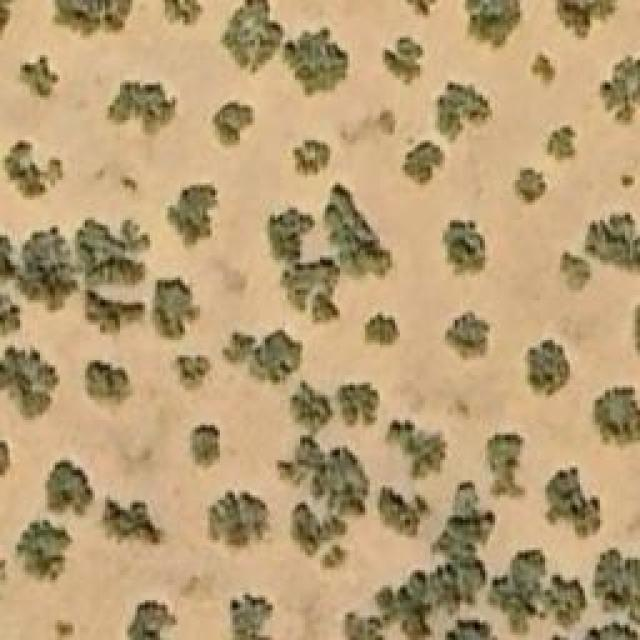Tree: (325, 187, 385, 275), (15, 228, 75, 308), (75, 220, 145, 288), (217, 0, 282, 72), (0, 345, 60, 420), (223, 330, 303, 385), (545, 468, 603, 541), (107, 75, 175, 135), (290, 27, 350, 95), (15, 520, 73, 583), (95, 495, 168, 545), (3, 140, 63, 200), (43, 458, 98, 521), (210, 490, 268, 548), (587, 387, 640, 450), (438, 80, 493, 140), (53, 0, 133, 40), (465, 0, 523, 55), (587, 215, 640, 275), (167, 185, 215, 248), (153, 280, 203, 340), (593, 548, 638, 613), (393, 420, 446, 473), (600, 55, 640, 125), (437, 220, 485, 278), (443, 310, 493, 363), (288, 265, 338, 318), (525, 340, 570, 398), (555, 0, 620, 40), (265, 210, 313, 263), (230, 592, 278, 640), (18, 55, 61, 108), (488, 433, 523, 498), (375, 488, 425, 531), (545, 575, 585, 628), (383, 37, 426, 85), (128, 600, 178, 640), (88, 293, 138, 333), (213, 103, 256, 148), (285, 385, 328, 430), (85, 360, 128, 403), (403, 140, 443, 185), (340, 385, 380, 428), (188, 422, 221, 470), (540, 125, 578, 165), (170, 355, 213, 390), (292, 140, 330, 178), (513, 167, 548, 205), (365, 313, 400, 348), (163, 0, 203, 28), (560, 255, 590, 288), (530, 52, 555, 90), (345, 612, 378, 640), (123, 177, 138, 195), (620, 173, 635, 188)
